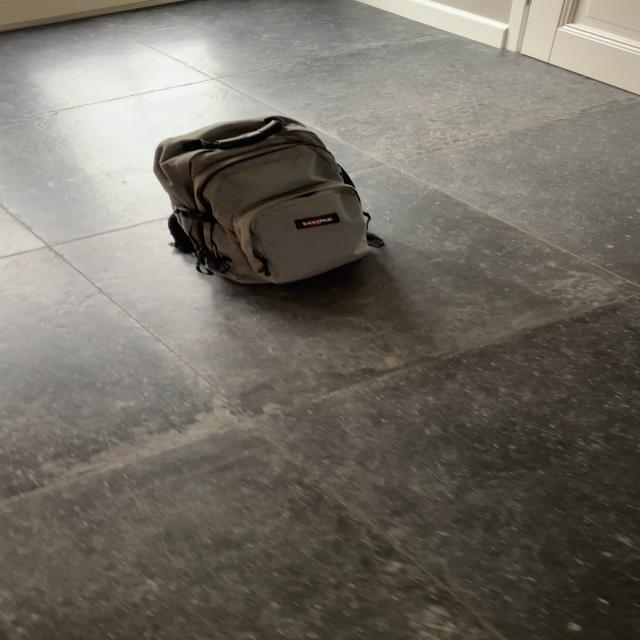backpack: (144, 109, 380, 292)
